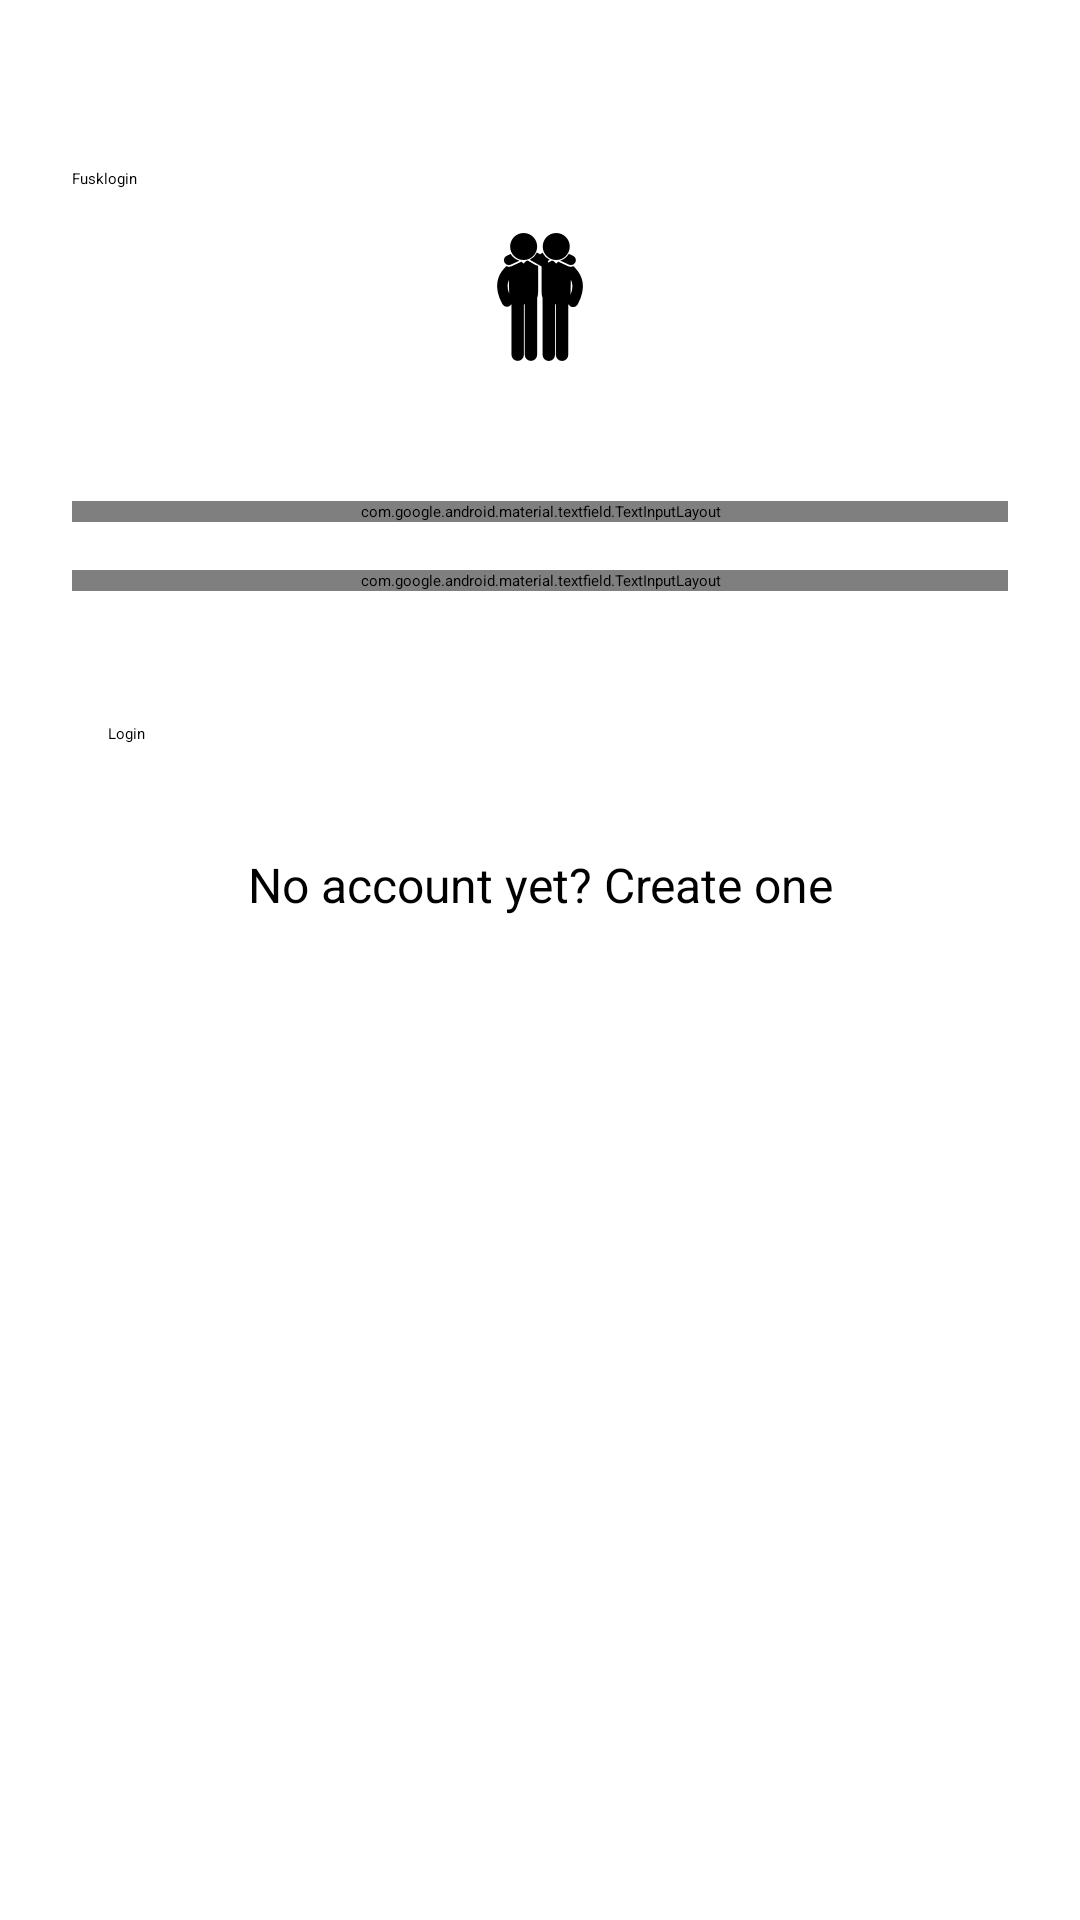

Where icons sit on this 1080px x 1920px app screen, as (x1, y1, x2, y2):
people: (497, 233, 583, 361)
